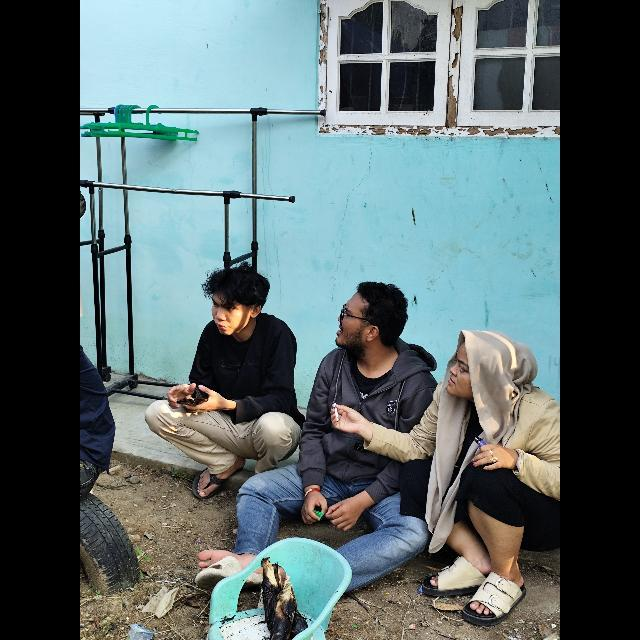rokok: (334, 402, 340, 422)
